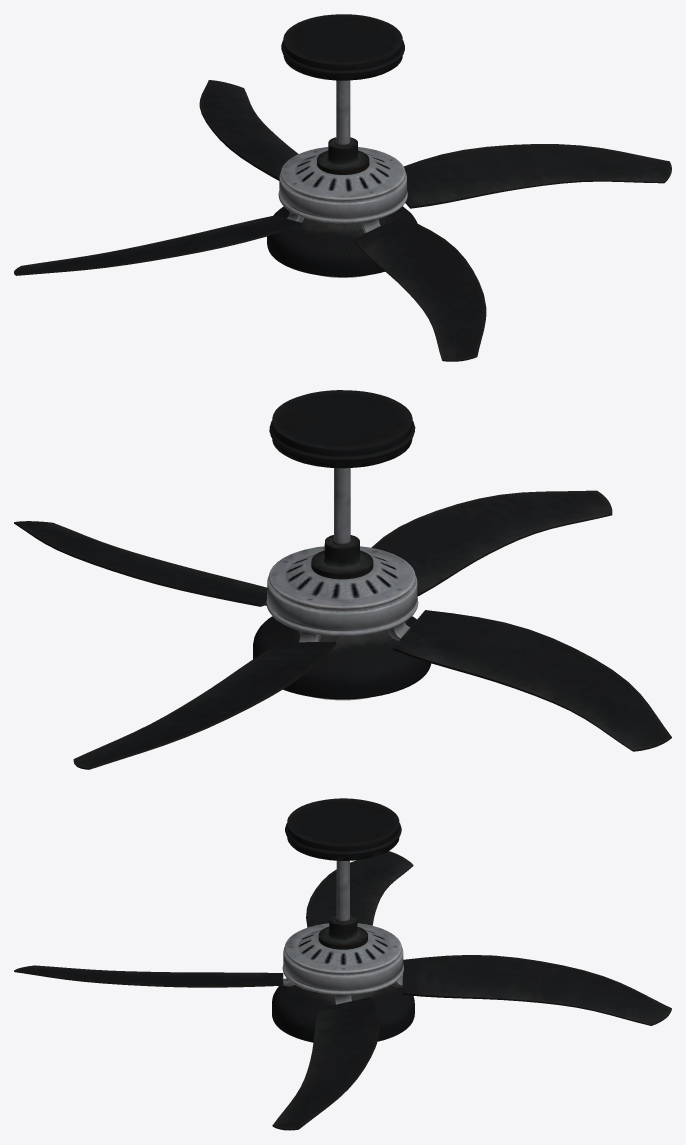
Rendered from ceiling_fan.glb.
3 views of the same model, one above another, from view 1: azimuth 30°, elevation 25°; view 2: azimuth 150°, elevation 25°; view 3: azimuth 270°, elevation 25° (orthographic). The views are drawn at different scales.
Visible parts, largest first — view 1: ceiling_fan_blades, ceiling_fan; view 2: ceiling_fan_blades, ceiling_fan; view 3: ceiling_fan_blades, ceiling_fan.
Part boxes in pixels (bbox=[...]): ceiling_fan_blades: bbox=[14, 80, 671, 361]; ceiling_fan: bbox=[267, 14, 417, 277]; ceiling_fan_blades: bbox=[14, 490, 671, 769]; ceiling_fan: bbox=[253, 390, 431, 700]; ceiling_fan_blades: bbox=[14, 851, 671, 1130]; ceiling_fan: bbox=[272, 798, 414, 1042].
Size of the model in its own units: 1.46 by 0.5164 by 1.46.
Materials: 1 (1 with a texture image).
